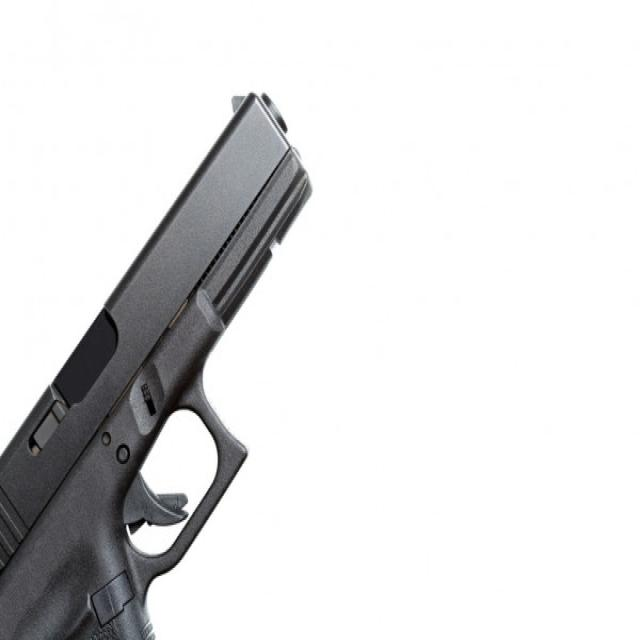pistol: (1, 81, 318, 640)
